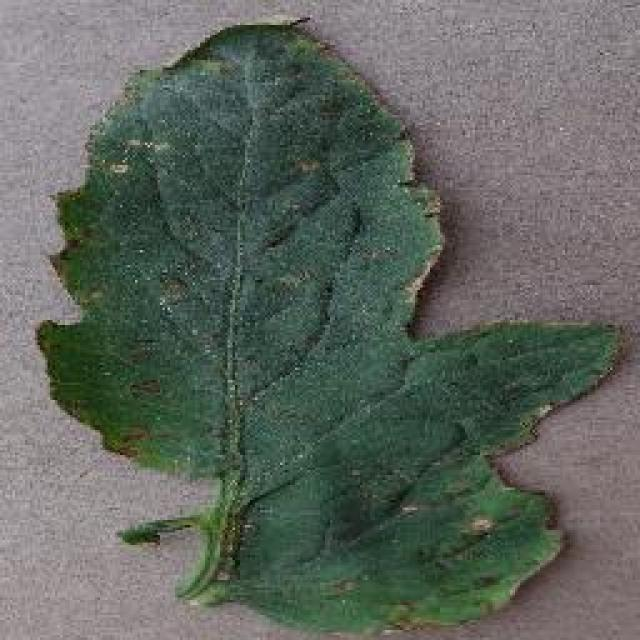Tomato___Bacterial_spot: (28, 19, 631, 633)
